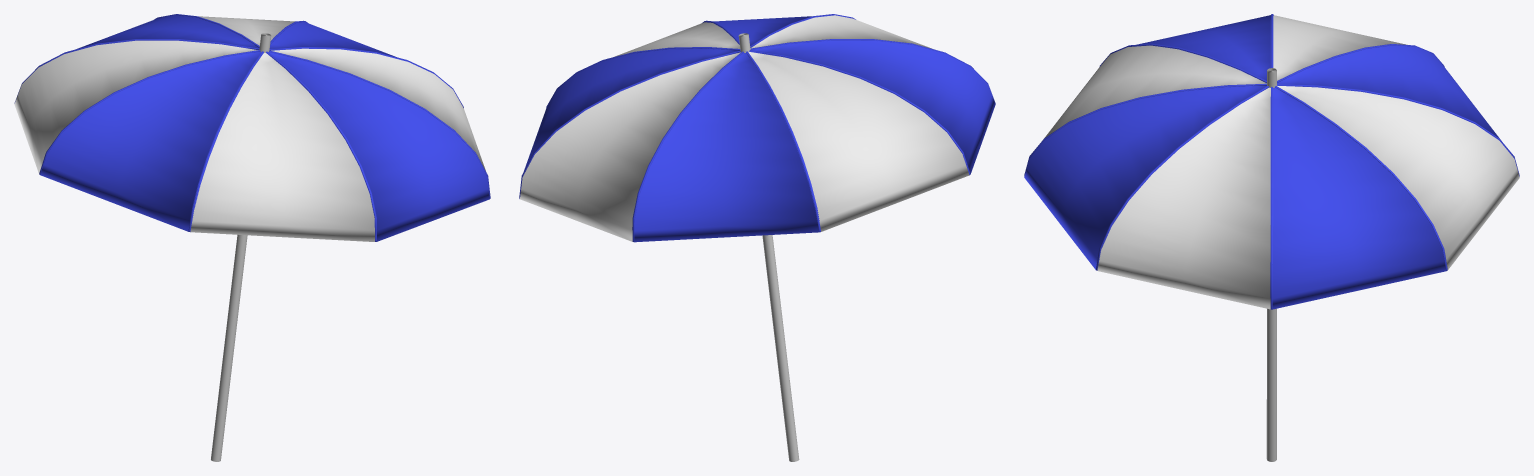
Rendered from beachParasol.fbx.
The picture shows the model from 3 angles, left to right: view 1: azimuth 30°, elevation 25°; view 2: azimuth 150°, elevation 25°; view 3: azimuth 270°, elevation 25°; orthographic projection.
Visible parts, largest first — view 1: 球, 円柱; view 2: 球, 円柱; view 3: 球, 円柱.
Boxes of the visible parts, x1,y1,x2,y2 form: 球: [14, 14, 490, 241]; 円柱: [211, 33, 271, 461]; 球: [519, 14, 995, 242]; 円柱: [738, 33, 799, 461]; 球: [1024, 14, 1519, 309]; 円柱: [1266, 68, 1276, 461].
Bounding box in the file's own units: 211 × 196 × 212.
